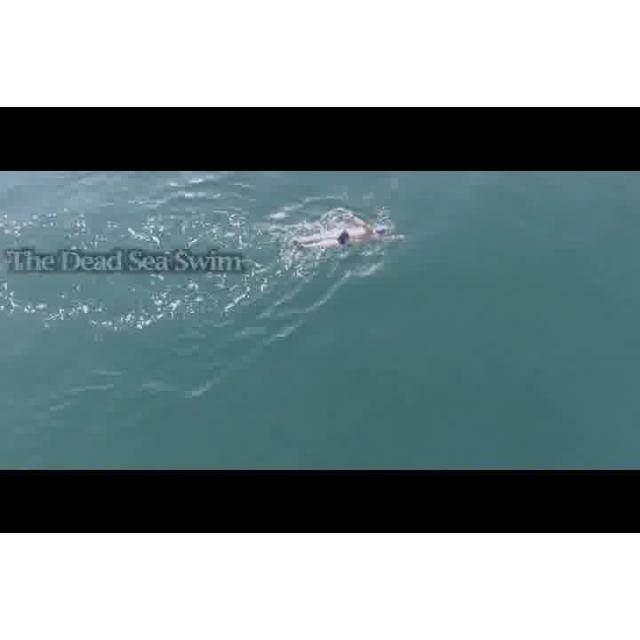human: (296, 212, 407, 253)
